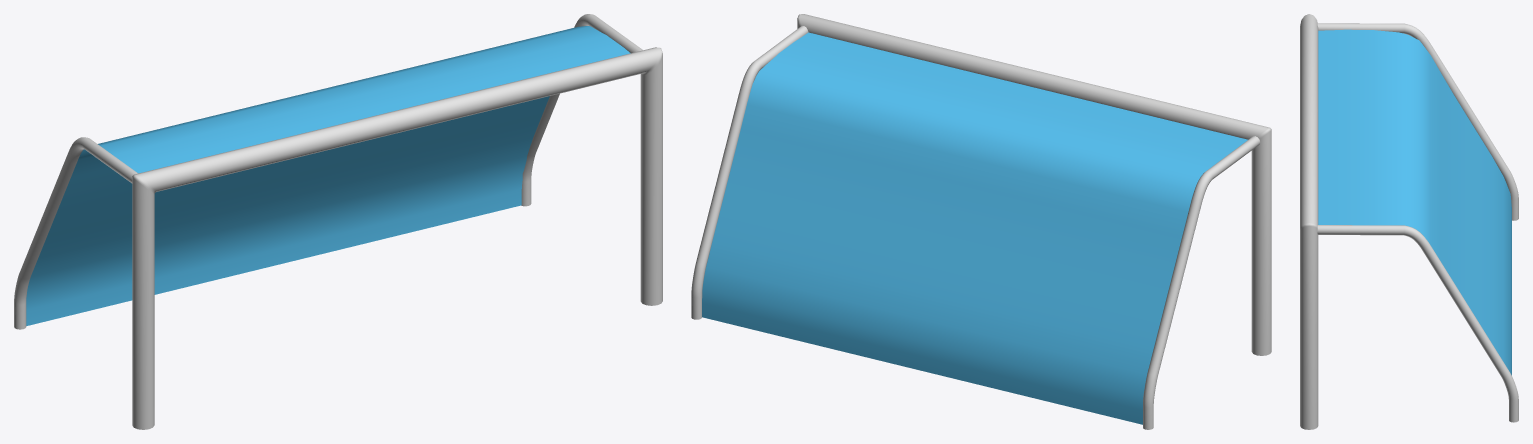
Rendered from GoalSimple.FBX.
The picture shows the model from 3 angles, left to right: view 1: azimuth 30°, elevation 25°; view 2: azimuth 150°, elevation 25°; view 3: azimuth 270°, elevation 25°; orthographic projection. The views are drawn at different scales.
Visible parts, largest first — view 1: Plane004, Cylinder079, Line001, Line002; view 2: Plane004, Cylinder079, Line001, Line002; view 3: Plane004, Cylinder079, Line002, Line001.
Part boxes in pixels (box(x1,y1,x2,y2)): Plane004: box(26, 26, 630, 325); Cylinder079: box(132, 47, 662, 429); Line001: box(14, 137, 137, 329); Line002: box(521, 14, 642, 206); Plane004: box(702, 32, 1247, 424); Cylinder079: box(797, 14, 1271, 355); Line001: box(1143, 136, 1260, 429); Line002: box(691, 26, 808, 319); Plane004: box(1318, 29, 1511, 375); Cylinder079: box(1300, 14, 1318, 429); Line002: box(1317, 225, 1518, 422); Line001: box(1317, 23, 1518, 220).
Size of the model in its own units: 599 by 273 by 263.
1 material, 1 textured.
